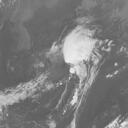cyclone: (61, 24, 101, 66)
